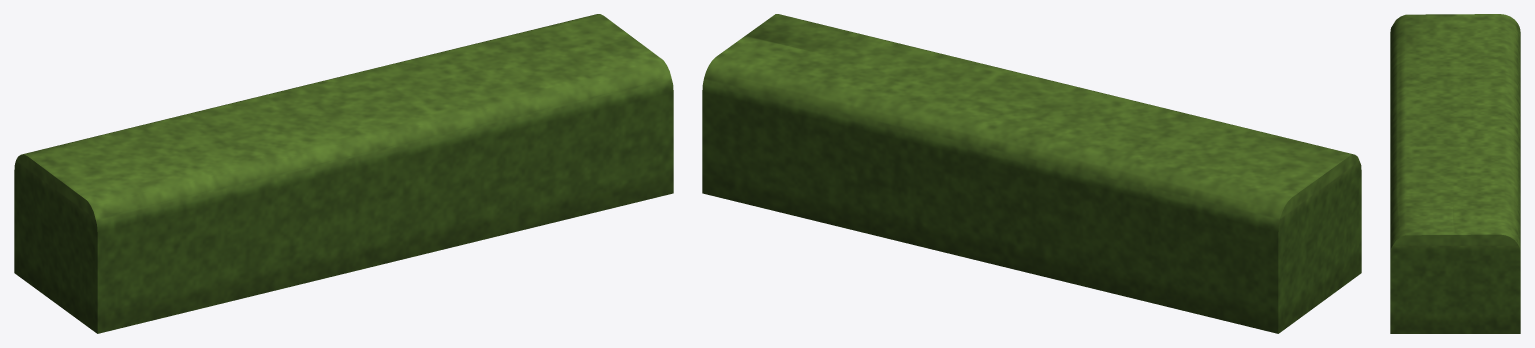
File: hang_rao_cong_vien.glb
3 views of the same model, side by side, from view 1: azimuth 30°, elevation 25°; view 2: azimuth 150°, elevation 25°; view 3: azimuth 270°, elevation 25° (orthographic). The views are drawn at different scales.
Parts seen in each view (by area): view 1: hang_rao_cong_vien; view 2: hang_rao_cong_vien; view 3: hang_rao_cong_vien.
Part boxes in pixels (box(x1,y1,x2,y2)): hang_rao_cong_vien: box(14, 14, 673, 333); hang_rao_cong_vien: box(702, 14, 1361, 333); hang_rao_cong_vien: box(1390, 14, 1520, 333).
Size of the model in its own units: 2 by 0.42 by 0.5.
1 material, 1 textured.
